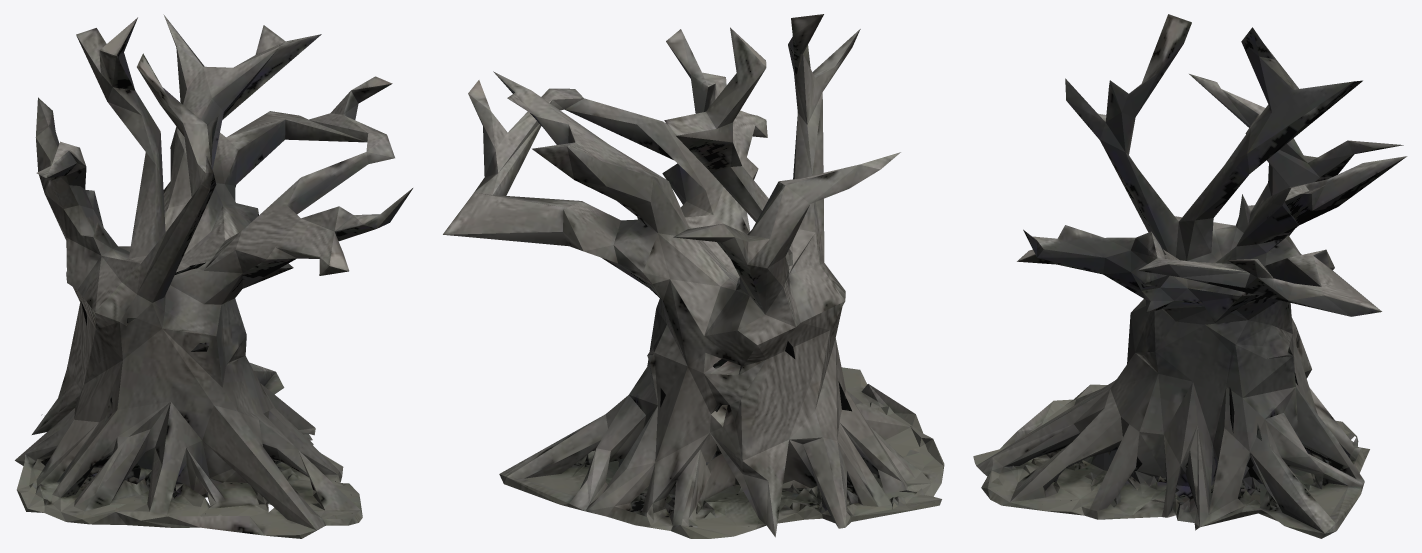
Rendered from char_tree_giant_01.glb.
The picture shows the model from 3 angles, left to right: view 1: azimuth 30°, elevation 25°; view 2: azimuth 150°, elevation 25°; view 3: azimuth 270°, elevation 25°; orthographic projection. The views are drawn at different scales.
Parts seen in each view (by area): view 1: geometry_0; view 2: geometry_0; view 3: geometry_0.
Part boxes in pixels (bbox=[...]): geometry_0: bbox=[15, 14, 412, 538]; geometry_0: bbox=[443, 14, 944, 538]; geometry_0: bbox=[973, 14, 1407, 538].
Bounding box in the file's own units: 0.9114 × 0.9583 × 0.8743.
Materials: 1 (1 with a texture image).
